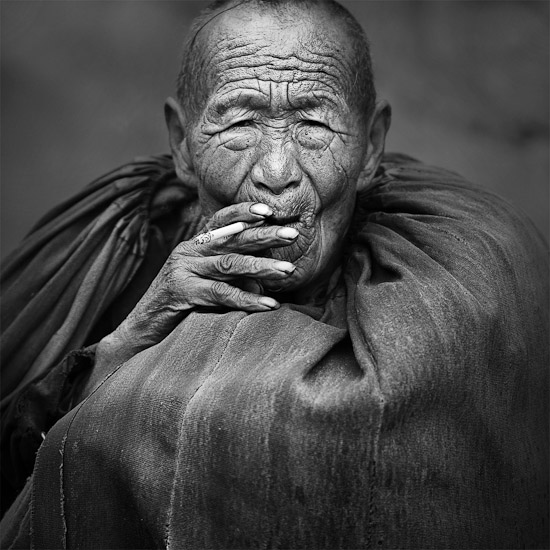cigarette: (190, 221, 272, 245)
